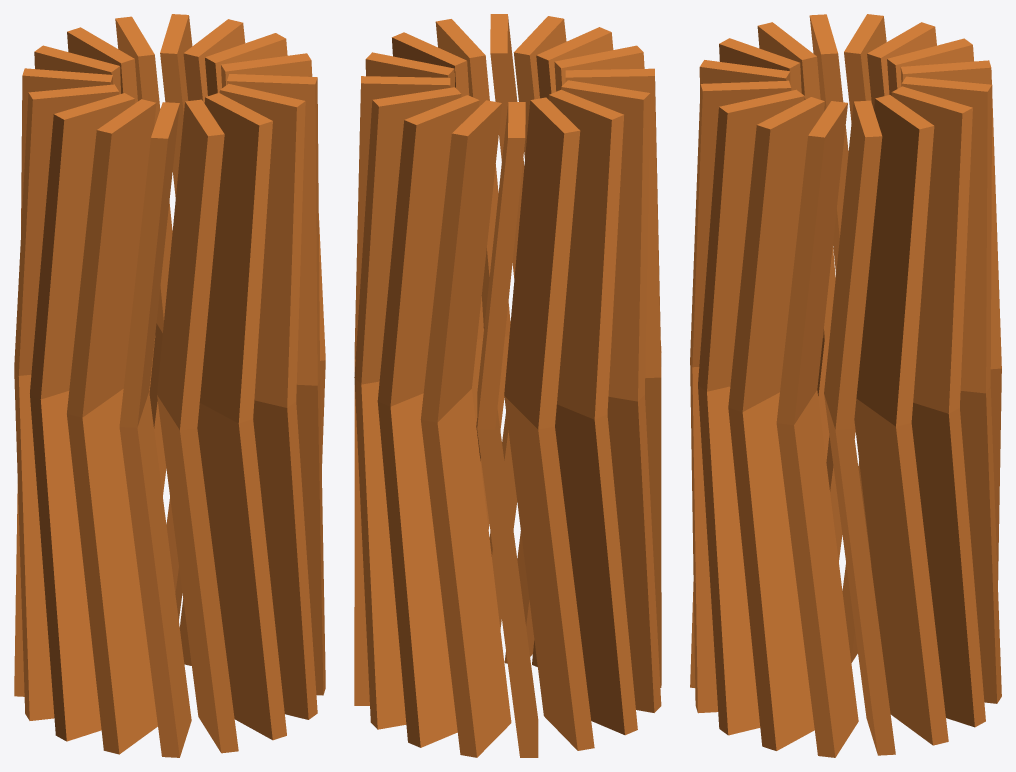
Rendered from BobinaDeAdornoCentral.fbx.
3 views of the same model, side by side, from view 1: azimuth 30°, elevation 25°; view 2: azimuth 150°, elevation 25°; view 3: azimuth 270°, elevation 25° (orthographic).
Visible parts, largest first — view 1: BobinaDeAdornoCentral; view 2: BobinaDeAdornoCentral; view 3: BobinaDeAdornoCentral.
Boxes of the visible parts, box(x1,y1,x2,y2) form: BobinaDeAdornoCentral: box(14, 14, 325, 757); BobinaDeAdornoCentral: box(354, 14, 661, 757); BobinaDeAdornoCentral: box(690, 14, 1001, 757).
Bounding box in the file's own units: 391 × 853 × 391.
